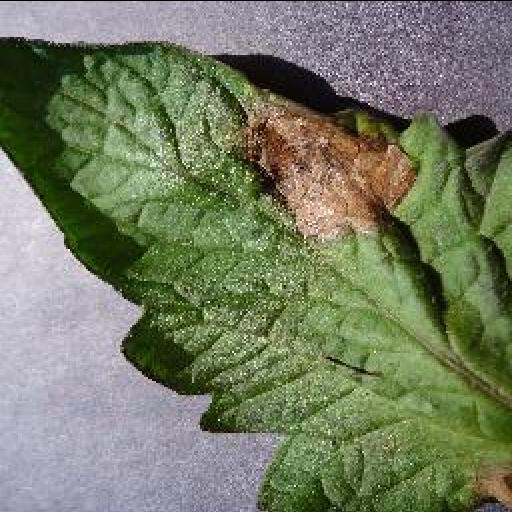disease_tomato: (0, 34, 512, 512)
